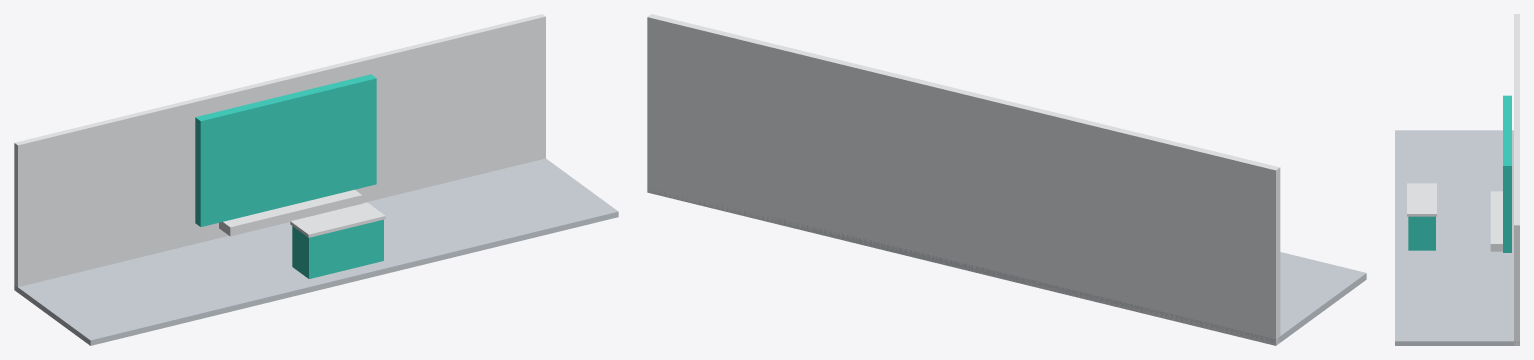
3 views of the same model, side by side, from view 1: azimuth 30°, elevation 25°; view 2: azimuth 150°, elevation 25°; view 3: azimuth 270°, elevation 25° (orthographic). The views are drawn at different scales.
Parts seen in each view (by area): view 1: Exhibition Booth Concept; view 2: Exhibition Booth Concept; view 3: Exhibition Booth Concept.
Part boxes in pixels (x1=…): Exhibition Booth Concept: x1=14, y1=14, x2=618, y2=345; Exhibition Booth Concept: x1=647, y1=14, x2=1366, y2=345; Exhibition Booth Concept: x1=1395, y1=14, x2=1519, y2=345.
Bounding box in the file's own units: 12 × 3.2 × 3.
